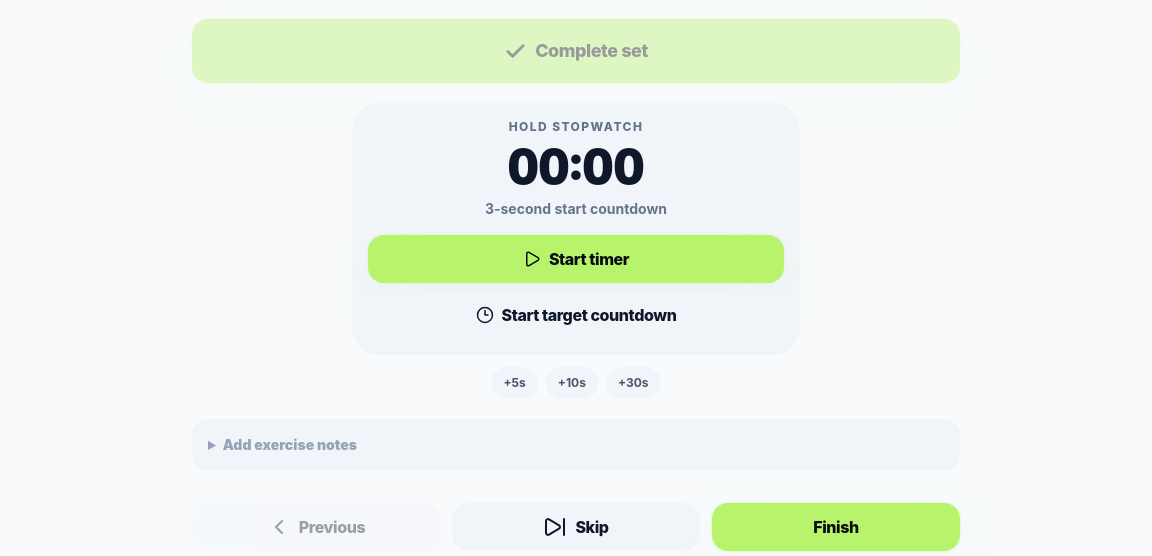
Test: active workout previous performance and replacement UX › shows stable whole stopwatch seconds and rounds internal milliseconds on stop
(page scrolled)
What coordinates should you click on to do the following:
click the button "Start timer"
I would click on:
 (576, 259)
Its box is [368, 235, 784, 283].
Wait 1000 ms
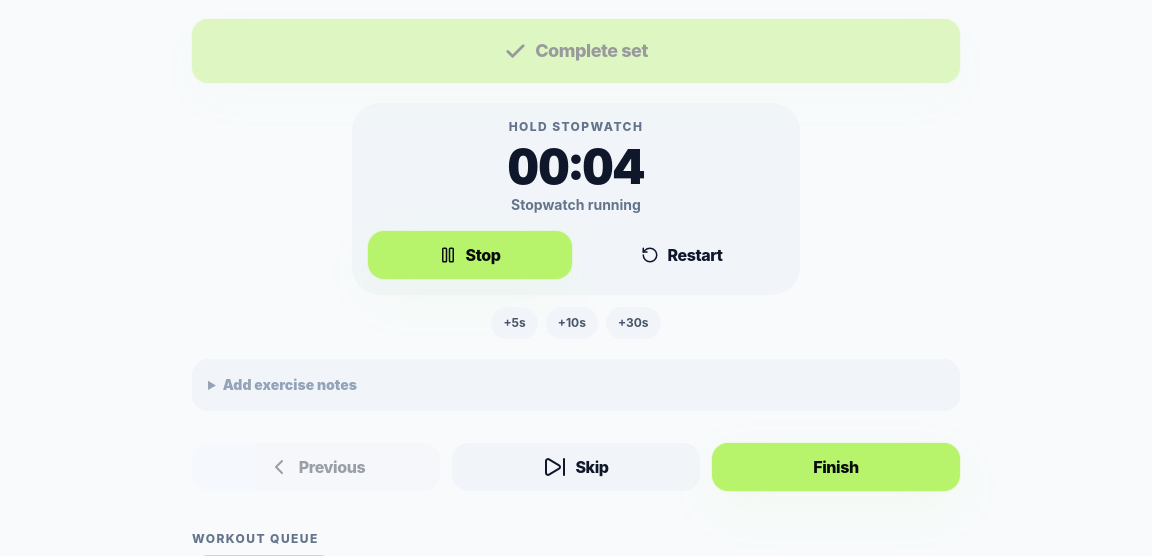
Result: the text "00:04" is shown at [508, 137, 644, 196]
What coordinates should you click on to do the following:
click the button "Stop"
I would click on:
 (470, 255)
Its box is [368, 231, 572, 279].
(page scrolled)
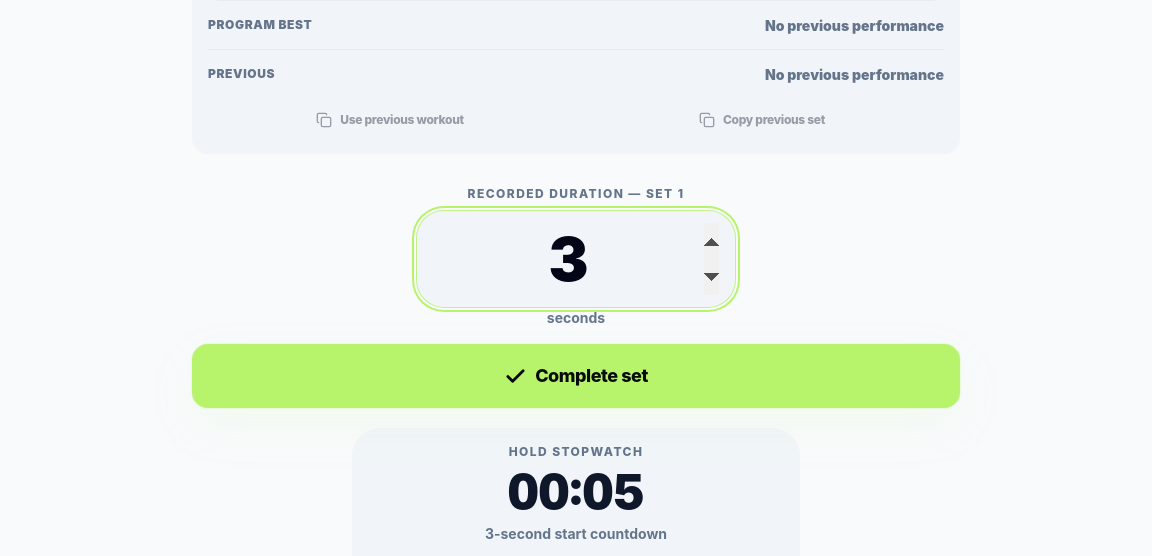
Result: the number field labelled "Recorded duration — Set 1" holds "3" at [416, 210, 736, 308]
